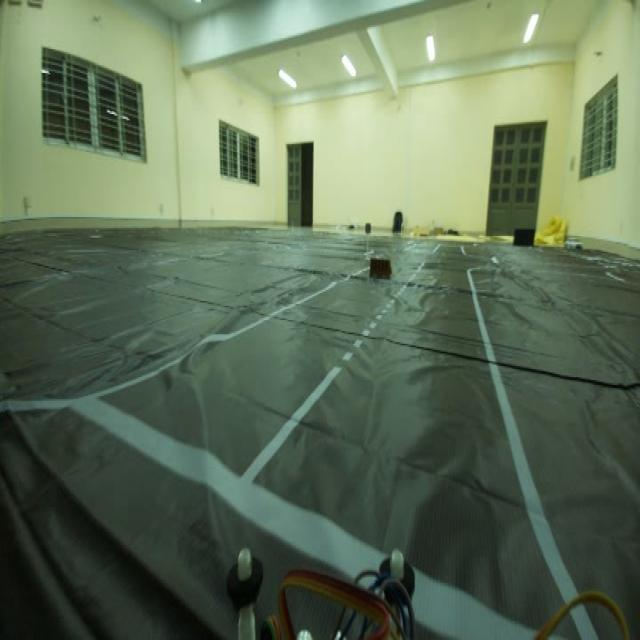roadblock: (364, 253, 392, 282)
